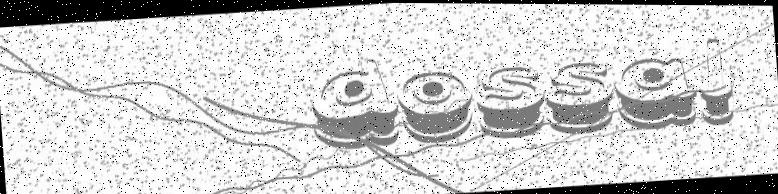a: (613, 55, 698, 130)
d: (311, 56, 401, 152)
l: (696, 36, 734, 125)
o: (396, 69, 474, 144)
s: (542, 59, 615, 135), (476, 64, 547, 139)
